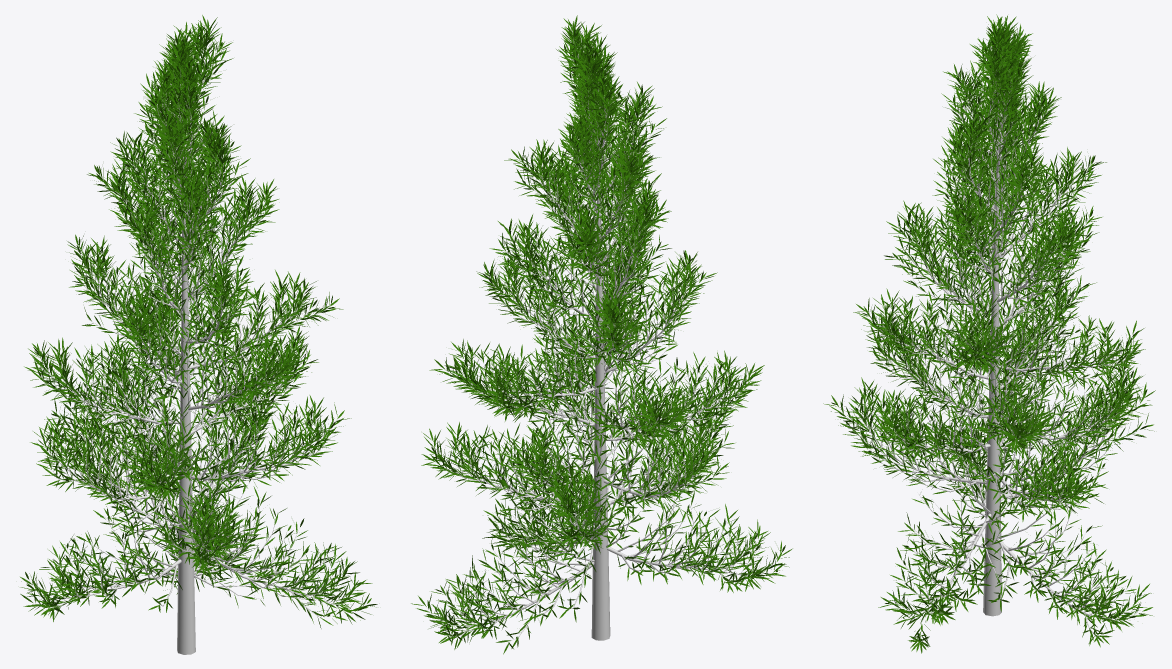
The model's file is Tree_1.fbx.
3 renders of one model, left to right at view 1: azimuth 30°, elevation 25°; view 2: azimuth 150°, elevation 25°; view 3: azimuth 270°, elevation 25°, orthographic. The views are drawn at different scales.
Visible parts, largest first — view 1: leaves, tree; view 2: leaves, tree; view 3: leaves, tree.
Boxes of the visible parts, bbox=[...] form: leaves: bbox=[20, 15, 377, 628]; tree: bbox=[31, 43, 348, 654]; leaves: bbox=[411, 15, 792, 654]; tree: bbox=[437, 38, 768, 641]; leaves: bbox=[823, 14, 1155, 653]; tree: bbox=[847, 42, 1139, 636].
Size of the model in its own units: 5147 by 9348 by 4705.
